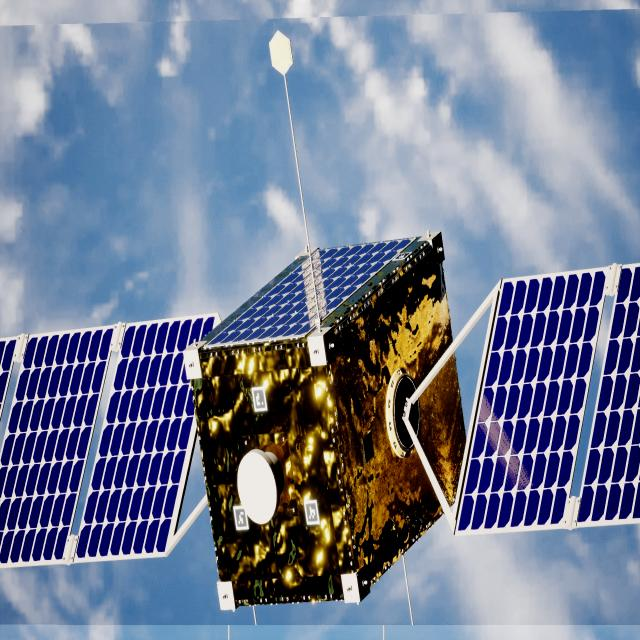medium_debris: (0, 233, 640, 610)
